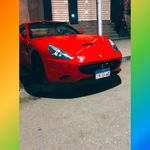carpl: (95, 67, 111, 80)
